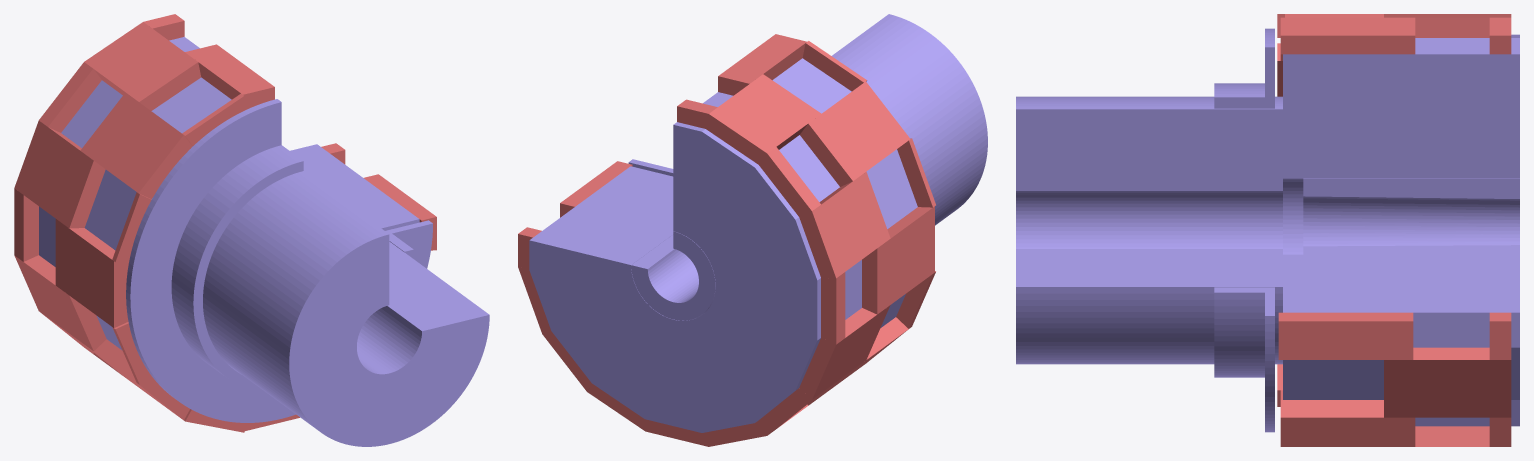
File: Small-Wheel-Hub-SideA-cut4.glb
The picture shows the model from 3 angles, left to right: view 1: azimuth 30°, elevation 25°; view 2: azimuth 150°, elevation 25°; view 3: azimuth 270°, elevation 25°; orthographic projection. The views are drawn at different scales.
Visible parts, largest first — view 1: null; view 2: null; view 3: null.
Boxes of the visible parts, box(x1,y1,x2,y2) form: null: box(14, 14, 489, 446); null: box(518, 14, 987, 446); null: box(1016, 14, 1519, 446).
Bounding box in the file's own units: 1.7 × 1.7 × 2.
